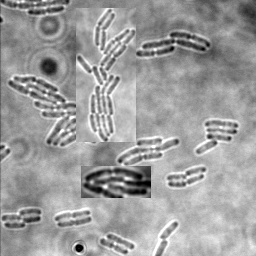Dividing: (167, 175, 204, 189), (99, 238, 128, 255), (54, 209, 90, 222), (56, 217, 92, 228), (27, 7, 64, 17)
Microcolony: (76, 8, 136, 142), (7, 76, 98, 147), (81, 166, 151, 198), (117, 137, 180, 168), (136, 32, 211, 57), (195, 120, 238, 155), (1, 208, 42, 229)
Rod: (106, 233, 135, 251), (157, 222, 178, 240), (184, 167, 206, 177), (166, 174, 187, 183)
